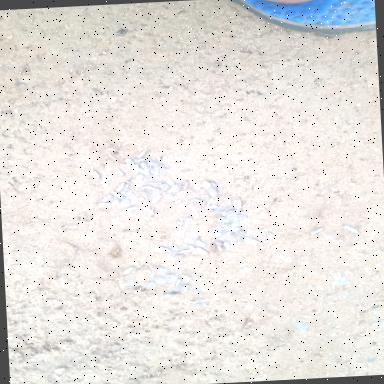pbw: (140, 184, 160, 192), (180, 216, 194, 227), (109, 190, 124, 200), (148, 194, 162, 204), (106, 198, 121, 207), (112, 167, 124, 178), (88, 168, 100, 179), (231, 198, 242, 210), (154, 246, 170, 254), (120, 206, 138, 213), (194, 246, 208, 255), (308, 226, 323, 234), (166, 184, 179, 193), (122, 266, 134, 275), (133, 174, 143, 184), (132, 164, 140, 176), (115, 183, 124, 193), (202, 205, 219, 209)
